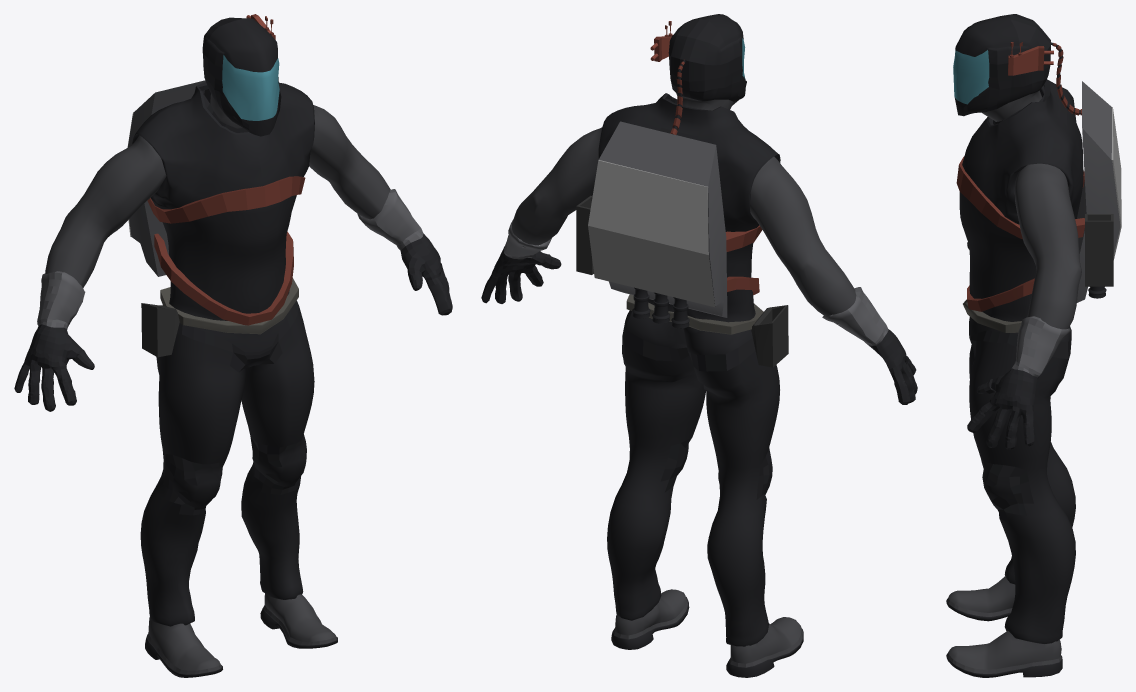
The model's file is Astronauta 2.fbx.
The picture shows the model from 3 angles, left to right: view 1: azimuth 30°, elevation 25°; view 2: azimuth 150°, elevation 25°; view 3: azimuth 270°, elevation 25°; orthographic projection.
Visible parts, largest first — view 1: Body, Restraint_Top, Backpack, Restraints_Bottom, Gun_Holster, Belt; view 2: Body, BackpackCover, Backpack, Gun_Holster, Belt, Shotgun_Holster; view 3: Body, Backpack, Shotgun_Holster, Restraint_Top, Restraints_Bottom, Illumination_System, BackpackCover, Belt, Oxygen_Tube.
Boxes of the visible parts, x1,y1,x2,y2 form: Body: (14,17,452,677); Restraint_Top: (147,176,305,223); Backpack: (128,80,205,276); Restraints_Bottom: (154,231,293,325); Gun_Holster: (141,303,179,357); Belt: (160,278,298,334); Body: (481,14,917,677); BackpackCover: (588,160,714,307); Backpack: (598,121,727,317); Gun_Holster: (751,305,788,367); Belt: (626,294,763,334); Shotgun_Holster: (576,195,593,274); Body: (946,14,1083,677); Backpack: (1077,81,1120,302); Shotgun_Holster: (1085,214,1113,286); Restraint_Top: (956,156,1084,239); Restraints_Bottom: (967,278,1034,311); Illumination_System: (1008,42,1044,75); BackpackCover: (1111,107,1121,259); Belt: (963,299,1021,332); Oxygen_Tube: (1050,41,1081,115).
Bounding box in the file's own units: 6.29 × 8.76 × 2.23.
